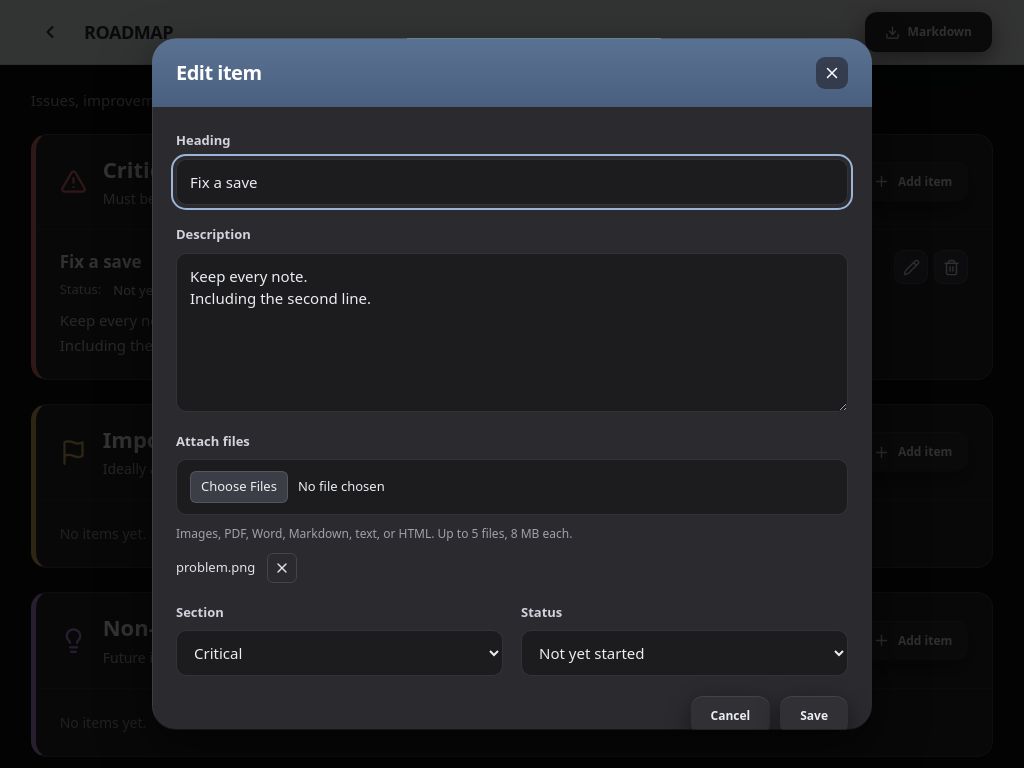
Test: Chronicle Roadmap › does not remove an uploaded screenshot on cancel when the server saved it but its response was lost
Earlier steps of the test are not shown.
Later steps or results of the test are not shown.
Click the button "Save": (814, 716) [780, 696, 848, 736]
(page scrolled)
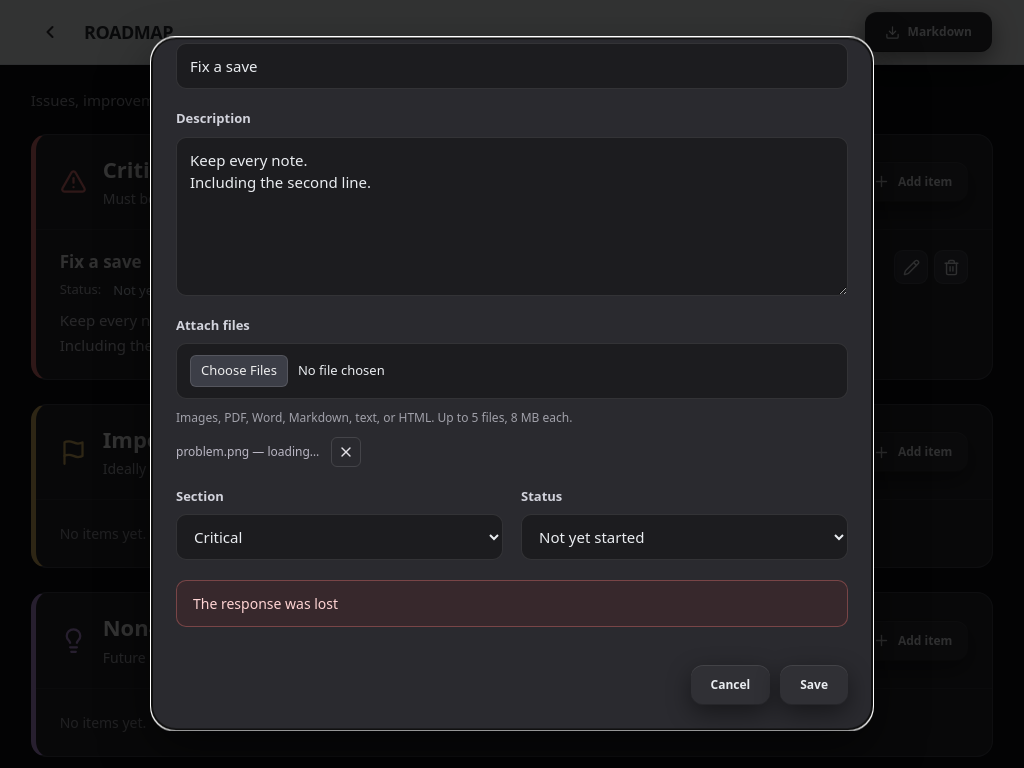
Expected: the message "The response was lost" is shown, [176, 580, 848, 627]
